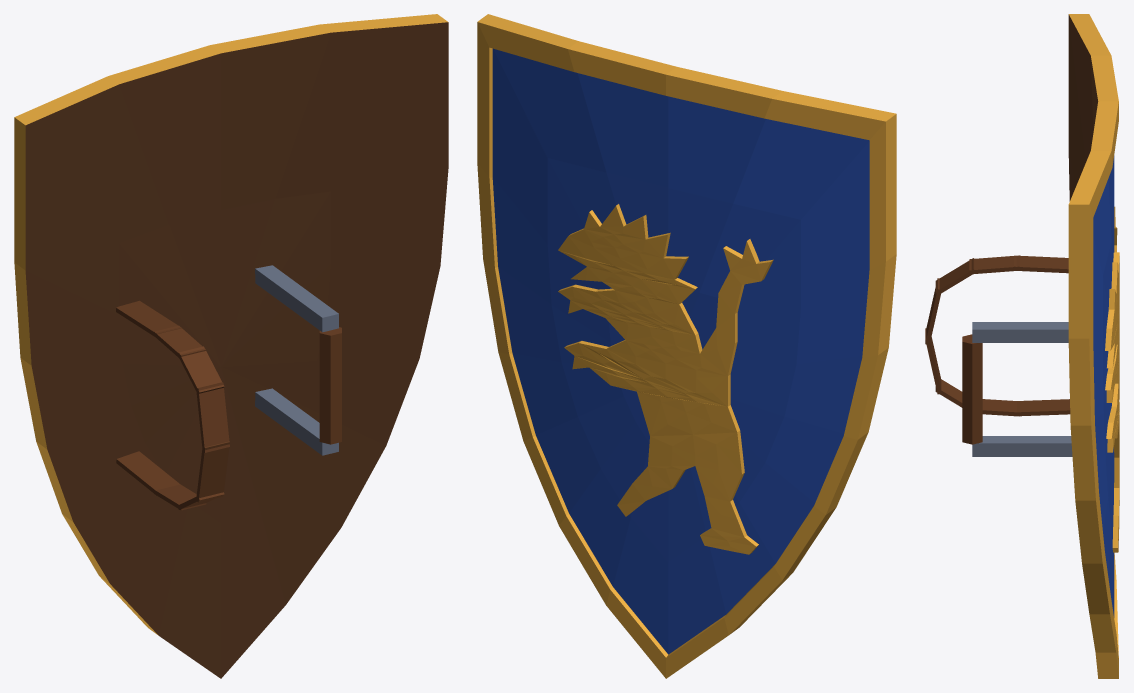
File: W2_Shield.fbx
3 views of the same model, side by side, from view 1: azimuth 30°, elevation 25°; view 2: azimuth 150°, elevation 25°; view 3: azimuth 270°, elevation 25° (orthographic). The views are drawn at different scales.
Visible parts, largest first — view 1: W2_Shield; view 2: W2_Shield; view 3: W2_Shield.
Boxes of the visible parts, x1=… form: W2_Shield: x1=14, y1=14, x2=448, y2=678; W2_Shield: x1=477, y1=14, x2=896, y2=678; W2_Shield: x1=925, y1=14, x2=1119, y2=678.
Bounding box in the file's own units: 61 × 86.2 × 26.27.
